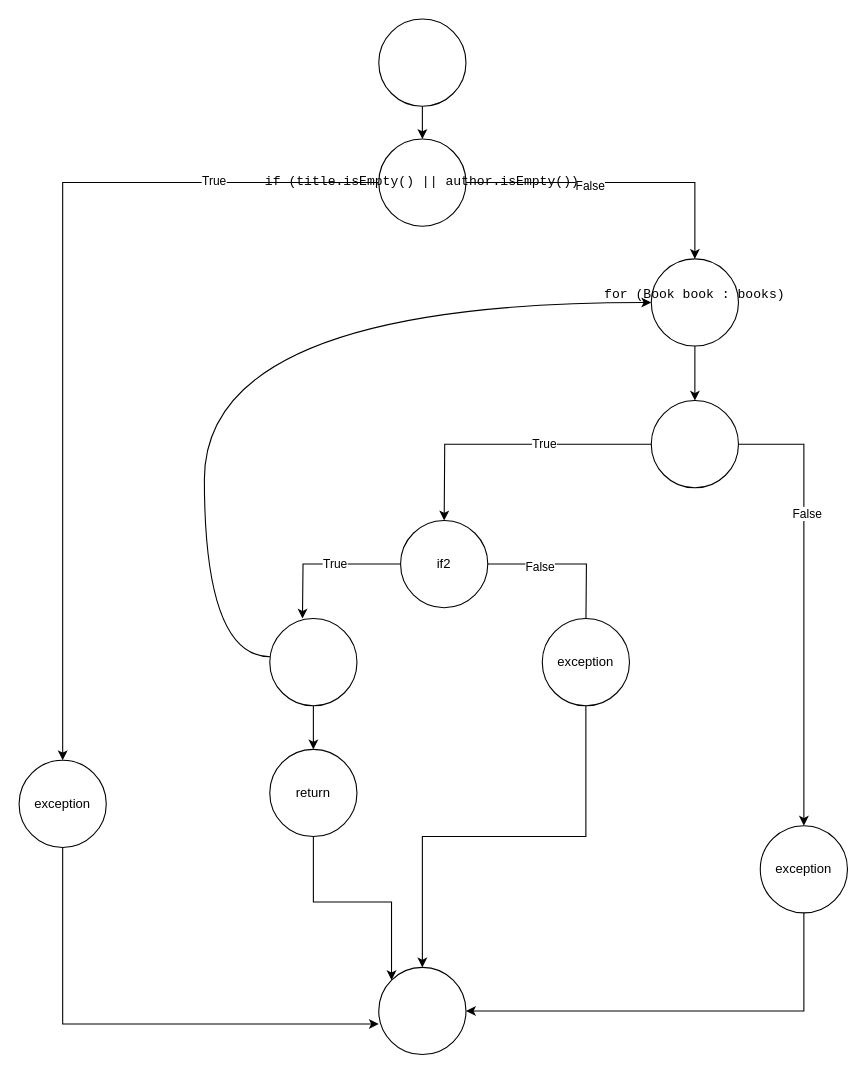
Some shapes in this 867 by 1074 pixel diagram are drawn without their labels. Each missing label, with the centre of its shape:
end: the point at 422,1010
if1: the point at 694,443
start: the point at 422,62
System.out.println("Borrowed successfully");: the point at 313,661
